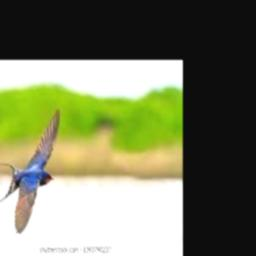Swallow: (0, 107, 60, 234)
